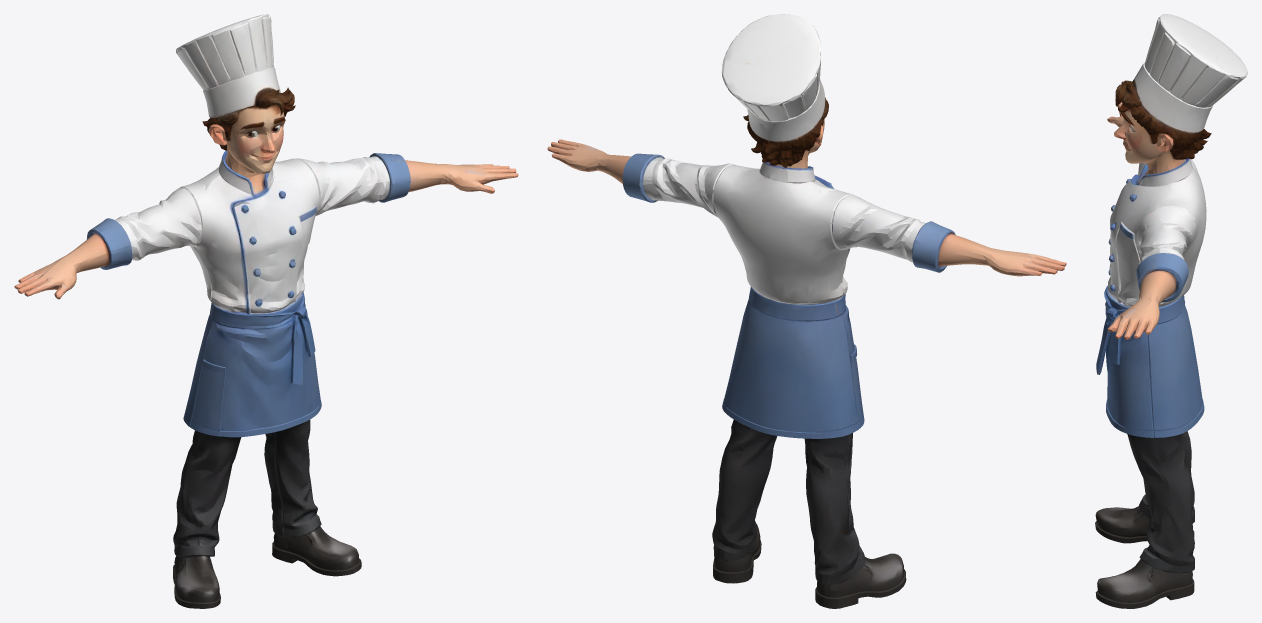
The model's file is chef.glb.
The picture shows the model from 3 angles, left to right: view 1: azimuth 30°, elevation 25°; view 2: azimuth 150°, elevation 25°; view 3: azimuth 270°, elevation 25°; orthographic projection. The views are drawn at different scales.
Visible parts, largest first — view 1: model; view 2: model; view 3: model.
Boxes of the visible parts, x1=… form: model: x1=14, y1=14, x2=518, y2=608; model: x1=547, y1=14, x2=1066, y2=608; model: x1=1095, y1=14, x2=1247, y2=608.
Size of the model in its own units: 1.79 by 1.9 by 0.4817.
Materials: 1 (1 with a texture image).
